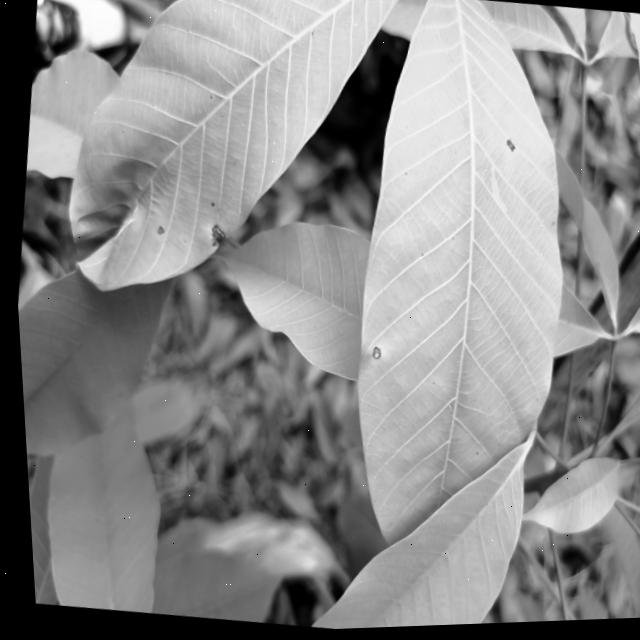Colletotrichum: (366, 348, 377, 363), (503, 143, 513, 155), (154, 227, 162, 236)
